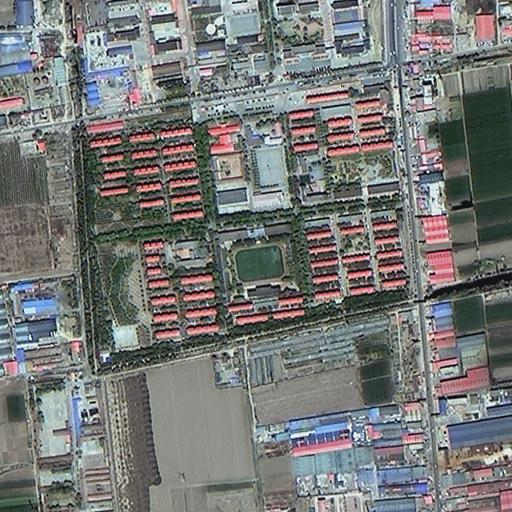school: (214, 217, 301, 298)
